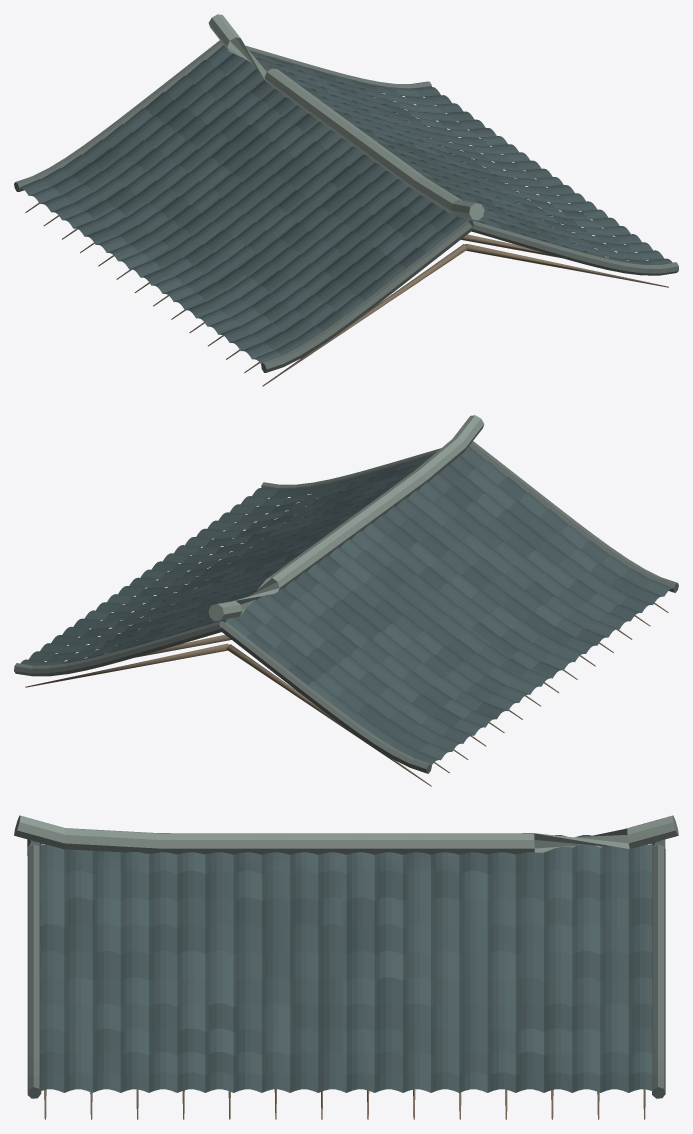
Rendered from jiangnan-roof.glb.
The picture shows the model from 3 angles, top to bottom: view 1: azimuth 30°, elevation 25°; view 2: azimuth 150°, elevation 25°; view 3: azimuth 270°, elevation 25°; orthographic projection. The views are drawn at different scales.
Visible parts, largest first — view 1: jiangnan-roof_Tiles, jiangnan-roof_Ridge, jiangnan-roof_Wood; view 2: jiangnan-roof_Tiles, jiangnan-roof_Ridge, jiangnan-roof_Wood; view 3: jiangnan-roof_Tiles, jiangnan-roof_Ridge, jiangnan-roof_Wood.
Part boxes in pixels (x1,y1,x2,y2): jiangnan-roof_Tiles: (14,40,678,372); jiangnan-roof_Ridge: (208,14,484,220); jiangnan-roof_Wood: (25,105,668,386); jiangnan-roof_Tiles: (14,441,678,773); jiangnan-roof_Ridge: (208,415,484,621); jiangnan-roof_Wood: (25,513,668,786); jiangnan-roof_Tiles: (27,835,665,1098); jiangnan-roof_Ridge: (14,815,678,854); jiangnan-roof_Wood: (44,1089,645,1119).
Bounding box in the file's own units: 6.41 × 2.1 × 7.07.
